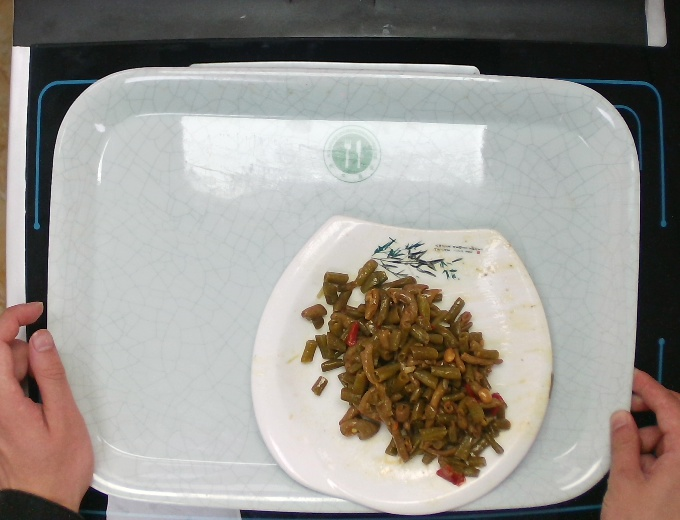JYsf-Mian_Pan: (246, 215, 556, 512)
